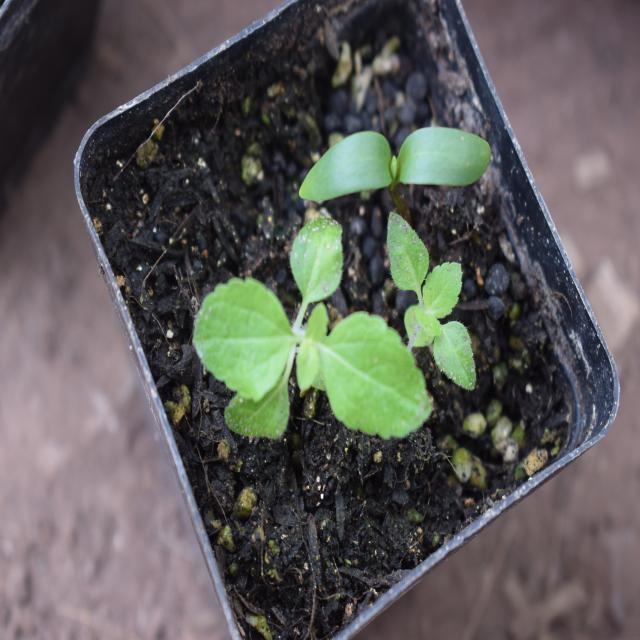billygoat_weed: (196, 217, 442, 464), (390, 210, 498, 394)
